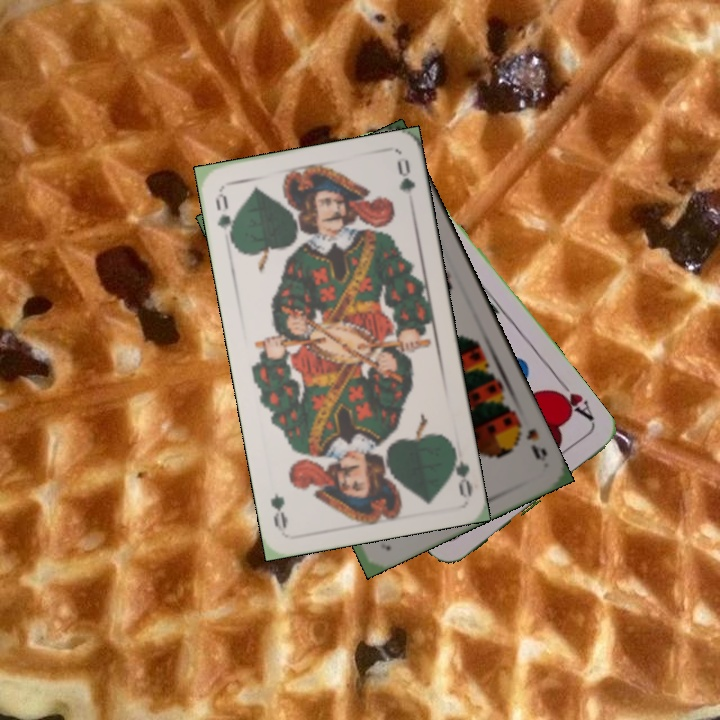GO: (446, 440, 476, 498), (211, 189, 238, 246)
HA: (548, 377, 597, 427)
S9: (509, 413, 550, 463)
